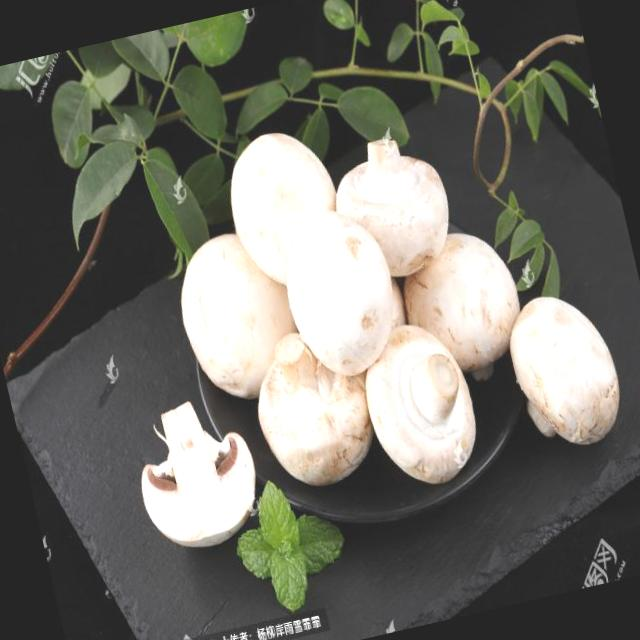Agaricus bisporus: (148, 67, 636, 527), (122, 390, 274, 560)
